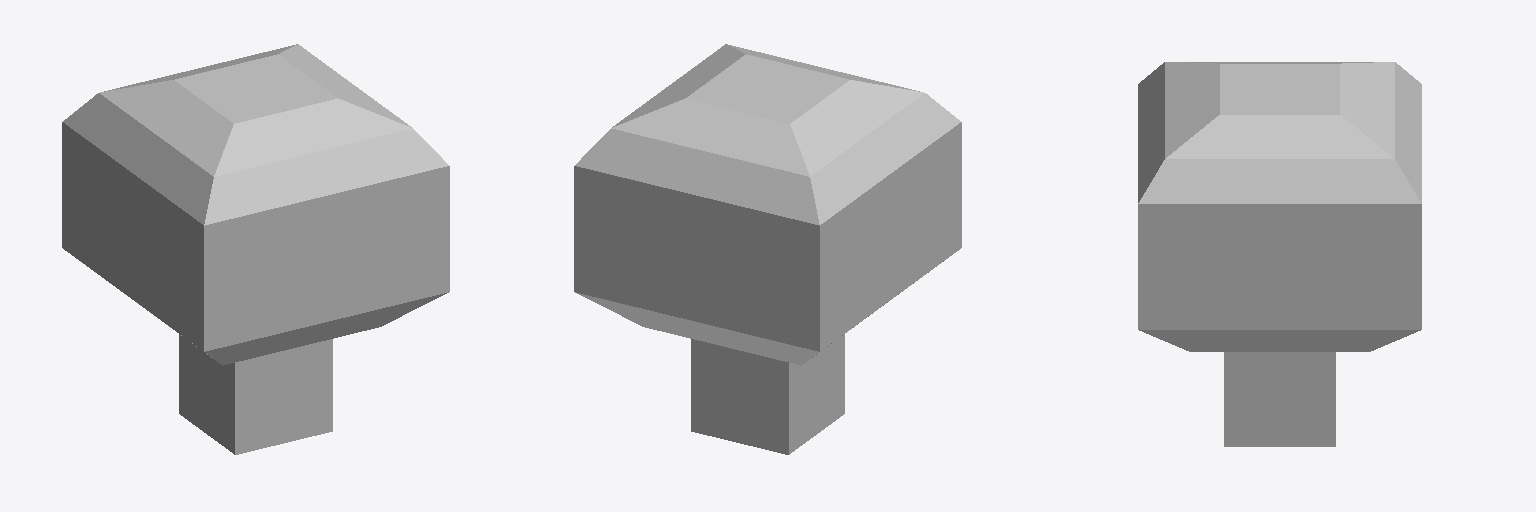
File: apple-tree.obj
The picture shows the model from 3 angles: view 1: azimuth 30°, elevation 25°; view 2: azimuth 150°, elevation 25°; view 3: azimuth 270°, elevation 25°; orthographic projection.
Visible parts, largest first — view 1: Cube; view 2: Cube; view 3: Cube.
Part boxes in pixels (bbox=[...]): Cube: bbox=[62, 44, 449, 454]; Cube: bbox=[574, 44, 961, 454]; Cube: bbox=[1138, 62, 1421, 446].
Bounding box in the file's own units: 5.06 × 6.58 × 5.06.